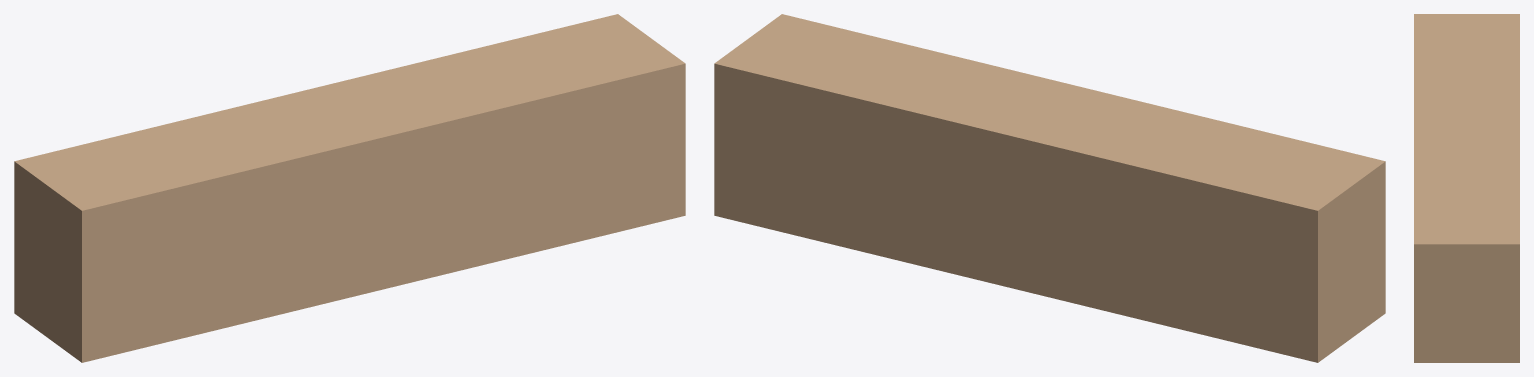
Rendered from media_console_07.glb.
The picture shows the model from 3 angles, left to right: view 1: azimuth 30°, elevation 25°; view 2: azimuth 150°, elevation 25°; view 3: azimuth 270°, elevation 25°; orthographic projection. The views are drawn at different scales.
Size of the model in its own units: 2.16 by 0.52 by 0.42.
